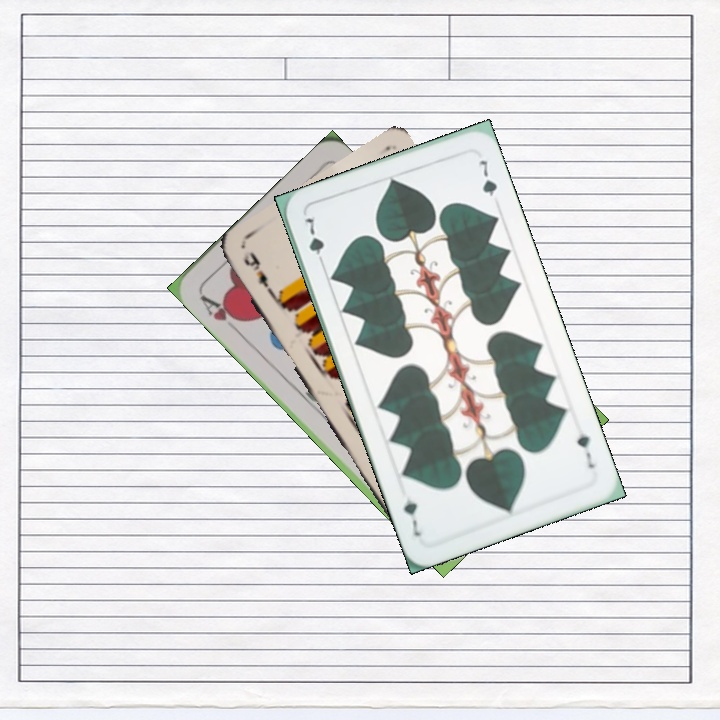E9: (239, 246, 278, 300)
G7: (300, 213, 328, 269), (572, 422, 598, 471)
HA: (196, 290, 245, 325)
